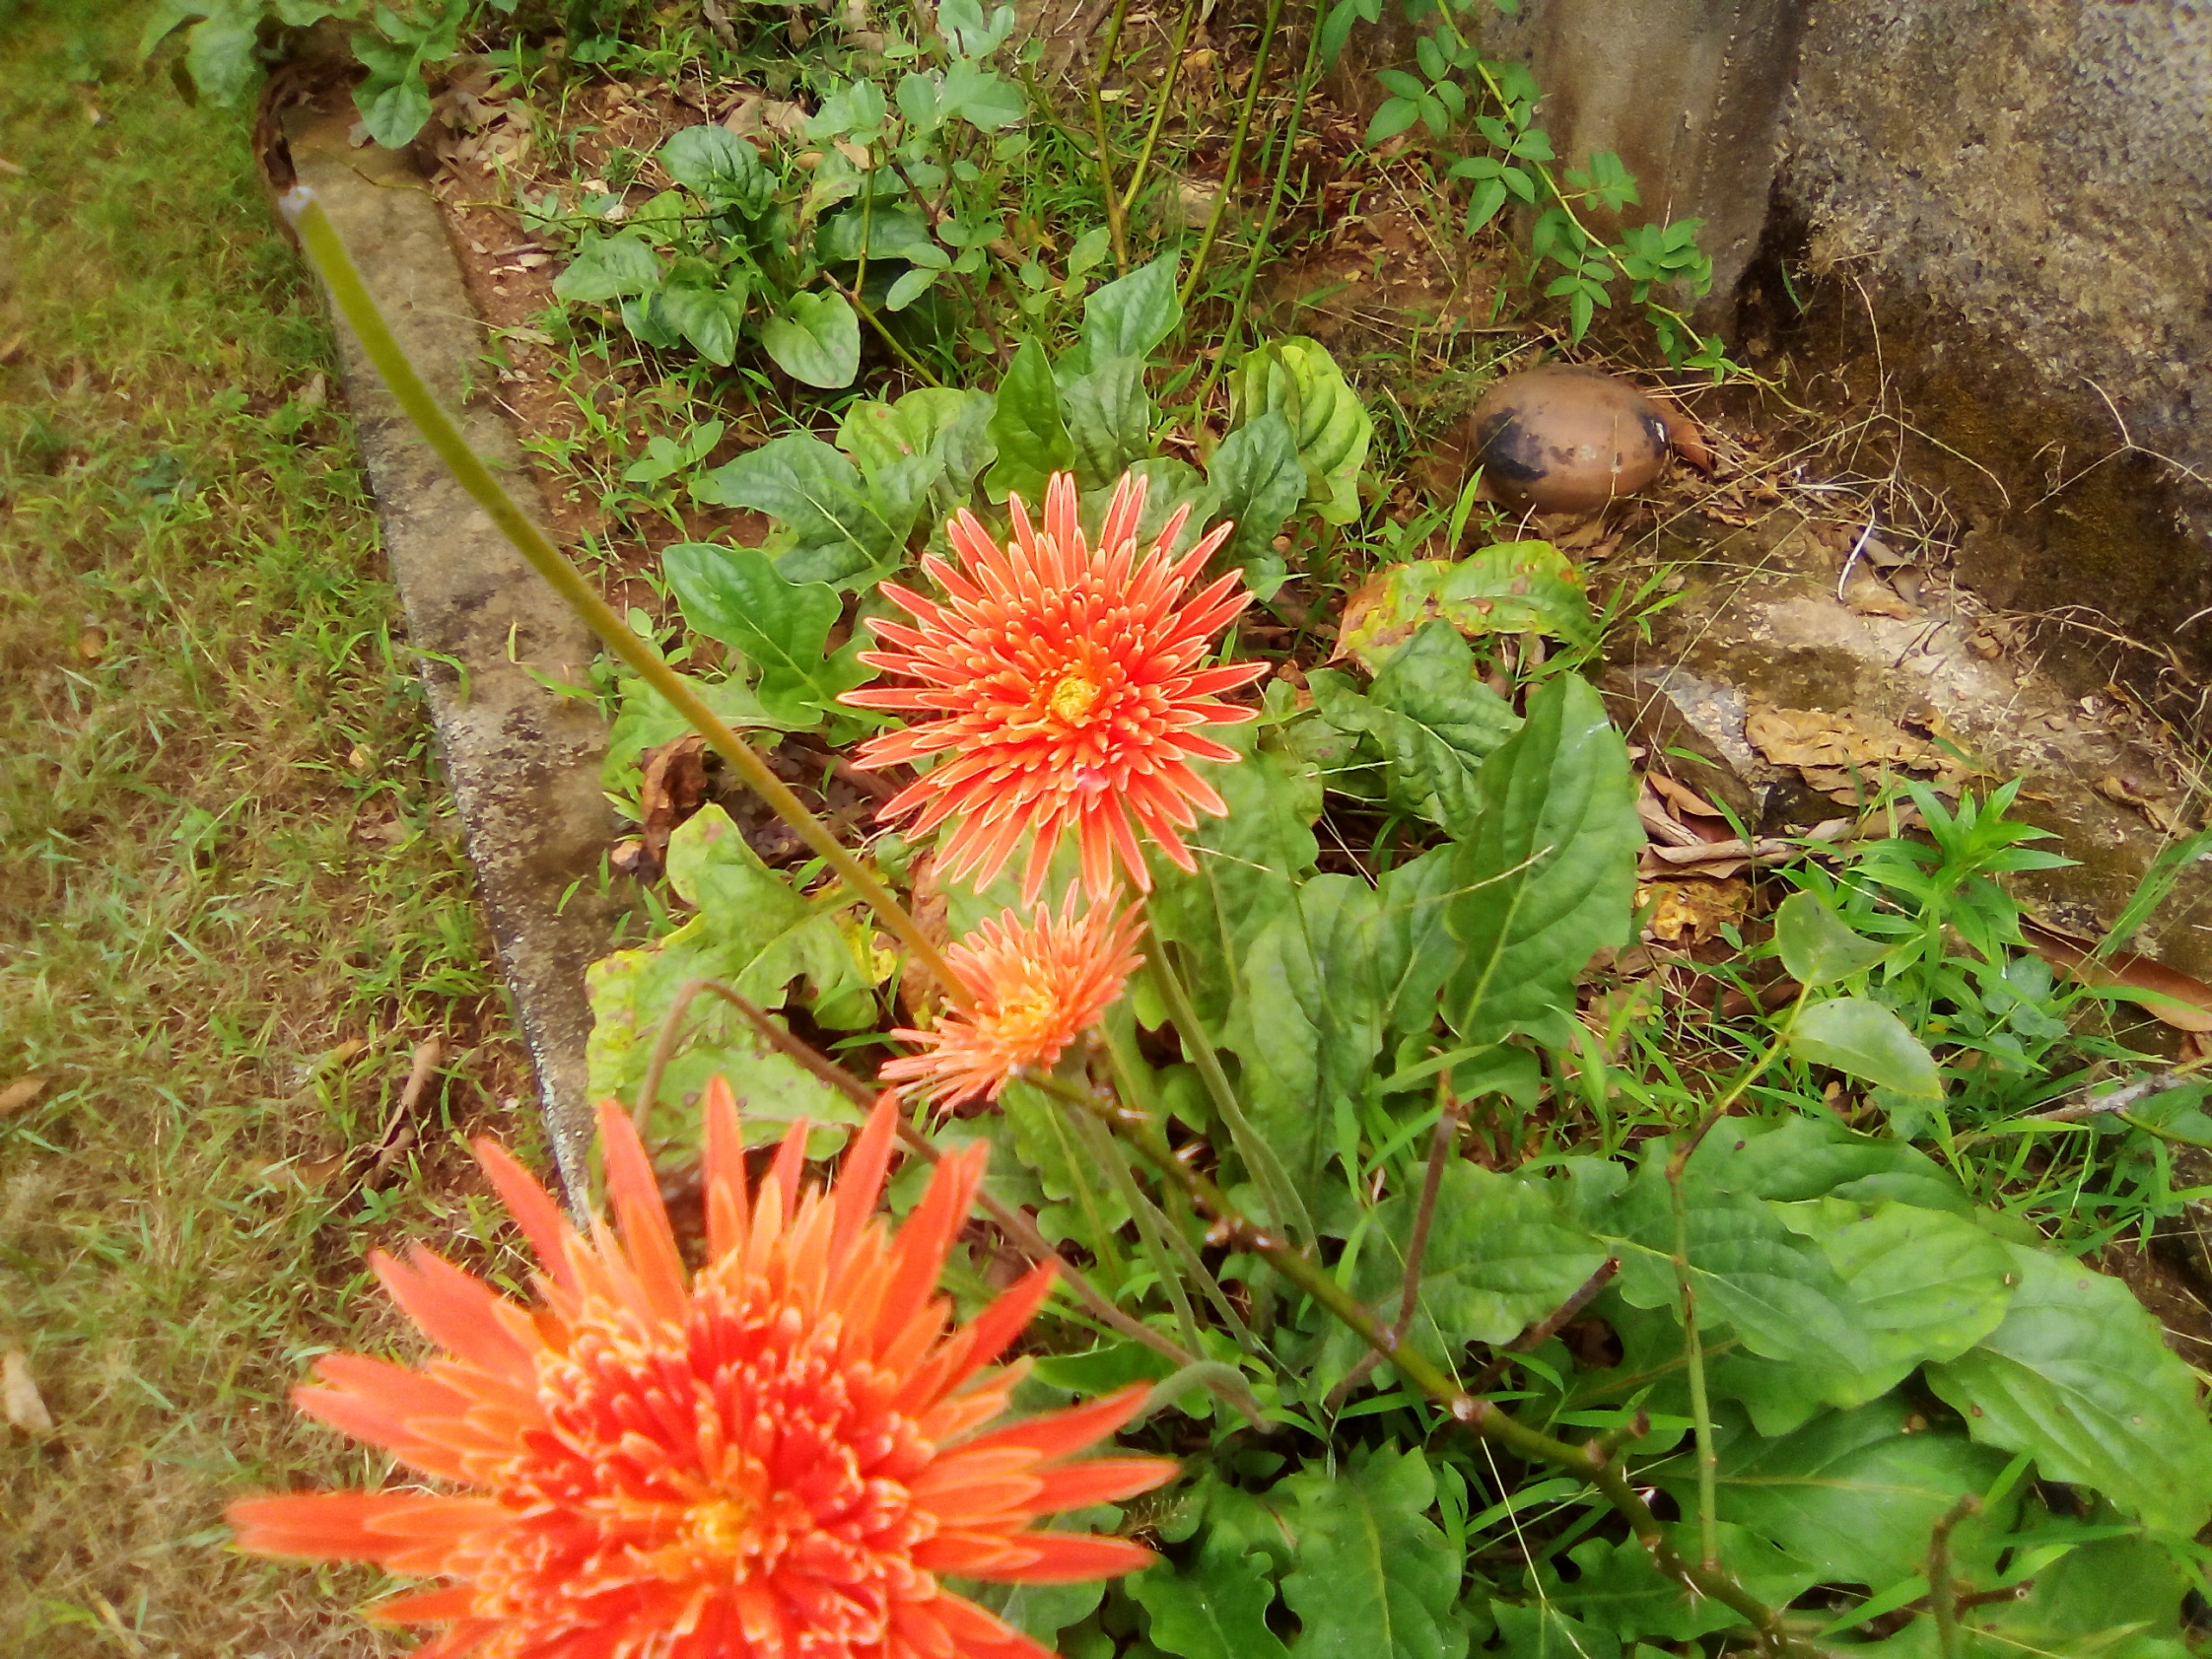ginimala: (279, 1162, 1136, 1659), (845, 512, 1231, 887), (890, 901, 1134, 1093)
